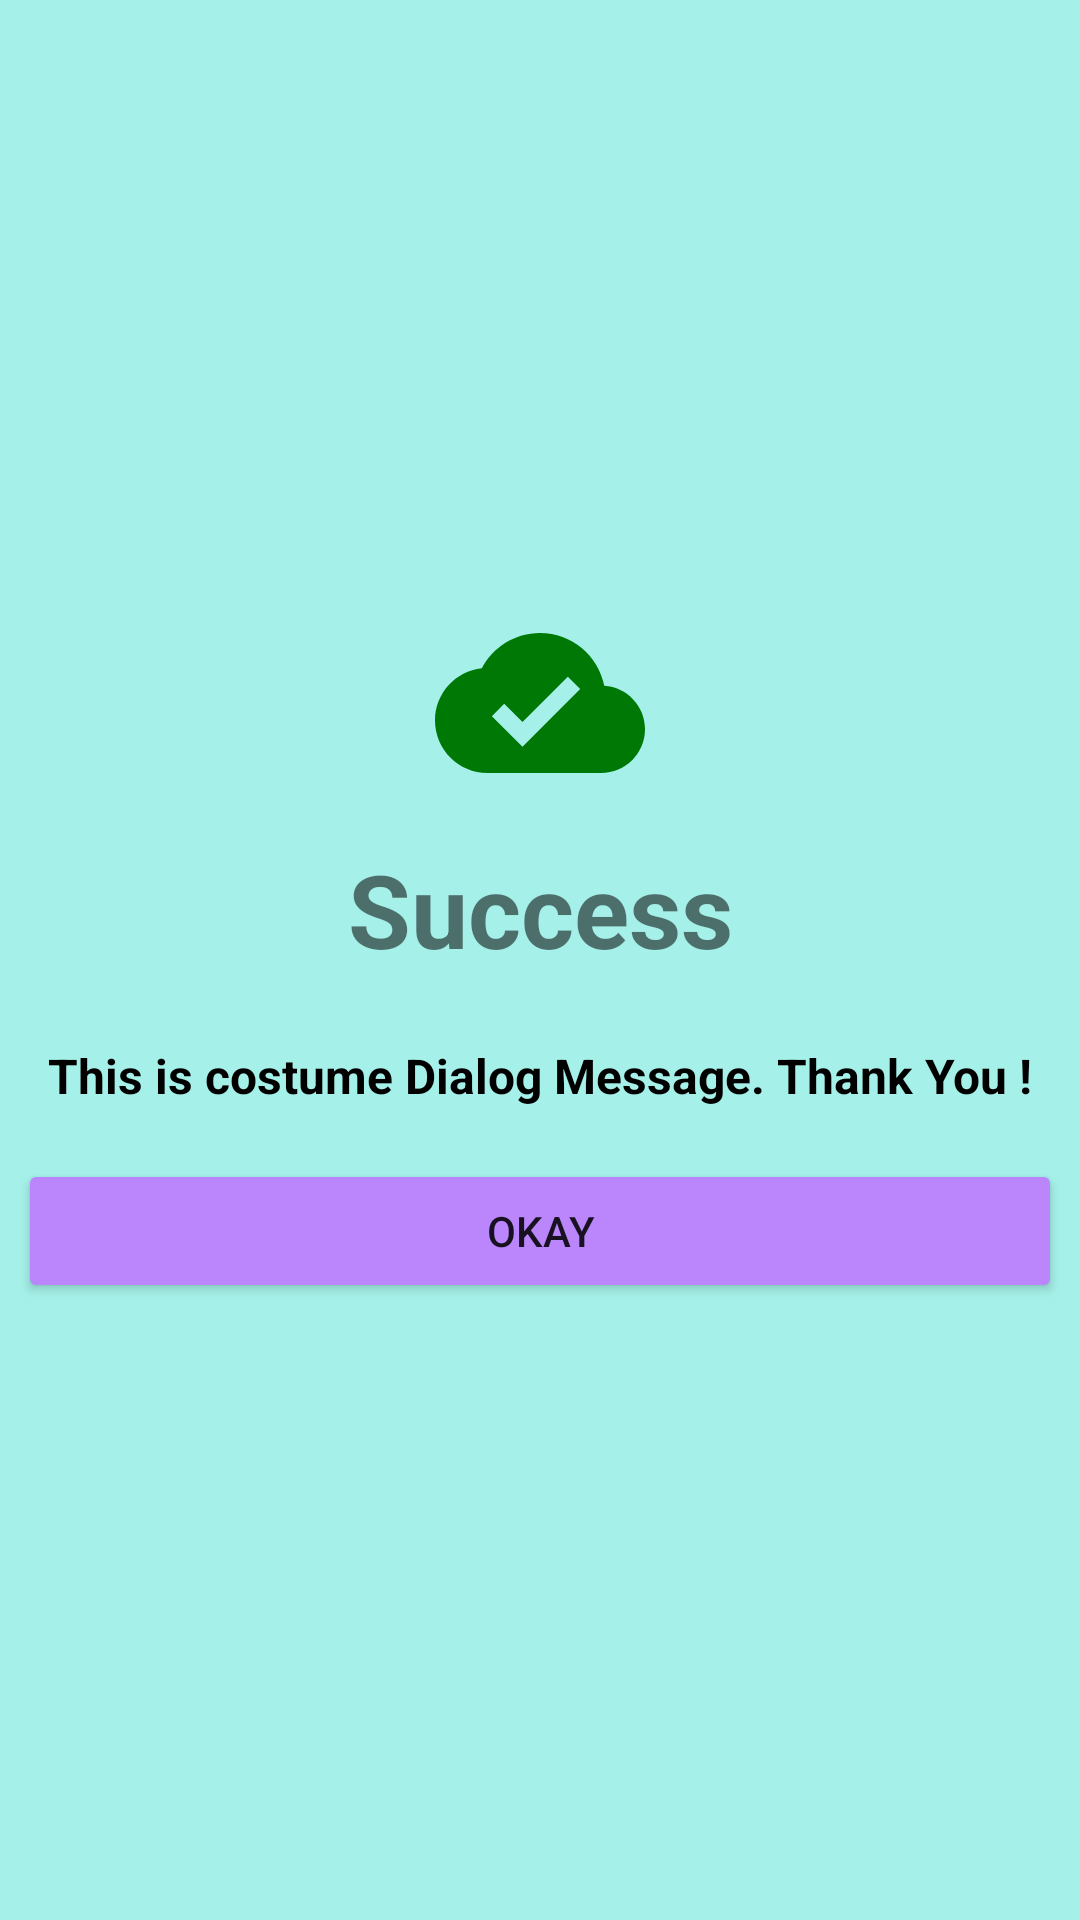

Named icons in this screenshot (1080*1920) and their centers, (x,y):
cloud done: (540,703)
